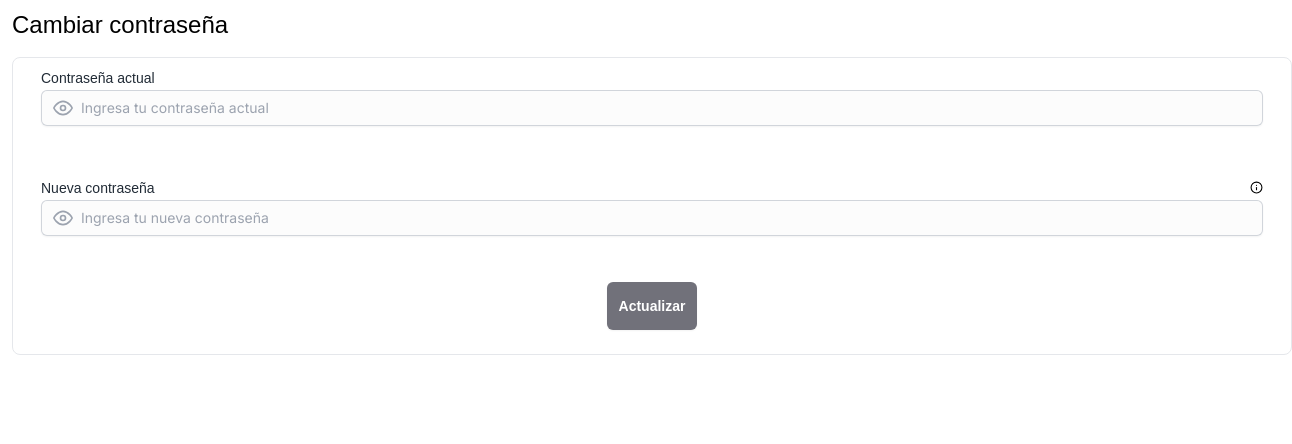
Test case: <ChangePasswordSection /> › throws message error from backend
The image size is (1292, 444).
Fill out the form
Type "oldPassword" into the password field labelled "Contraseña actual" at (652, 108), box [41, 90, 1263, 126]
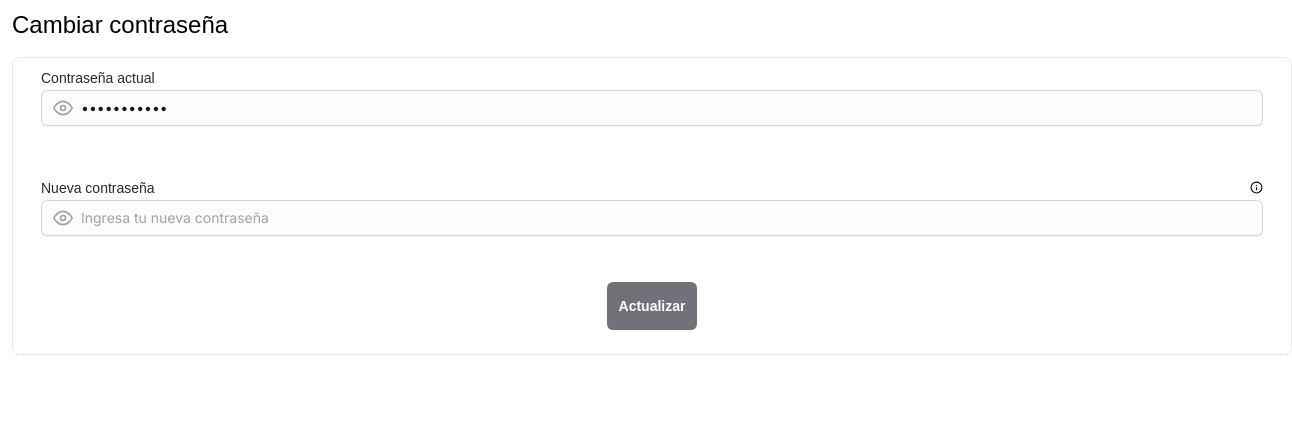
Type "NewPassword123!" into the password field labelled "Nueva contraseña" at (652, 218), box [41, 200, 1263, 236]
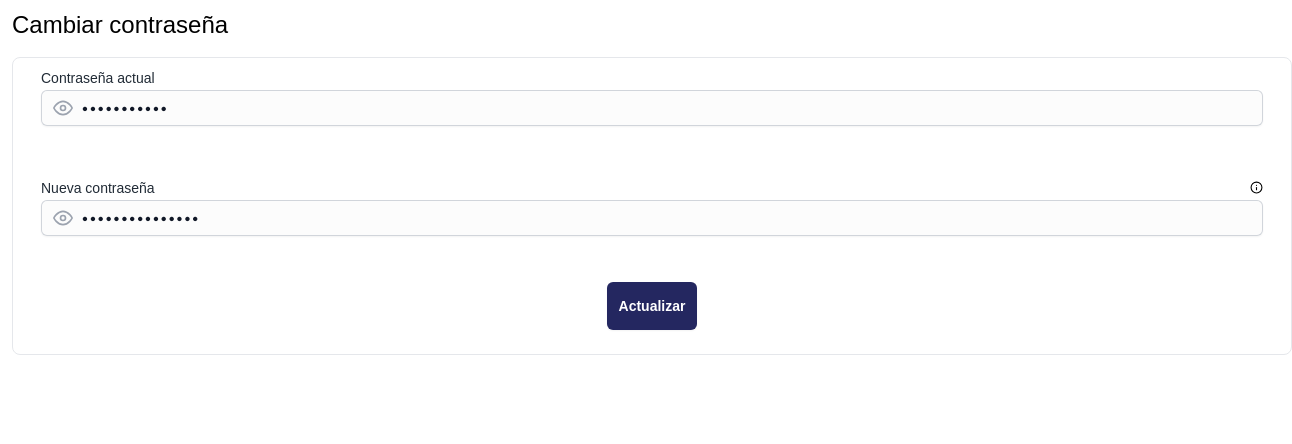
Click the button "Actualizar" at (652, 306), box [606, 282, 697, 330]
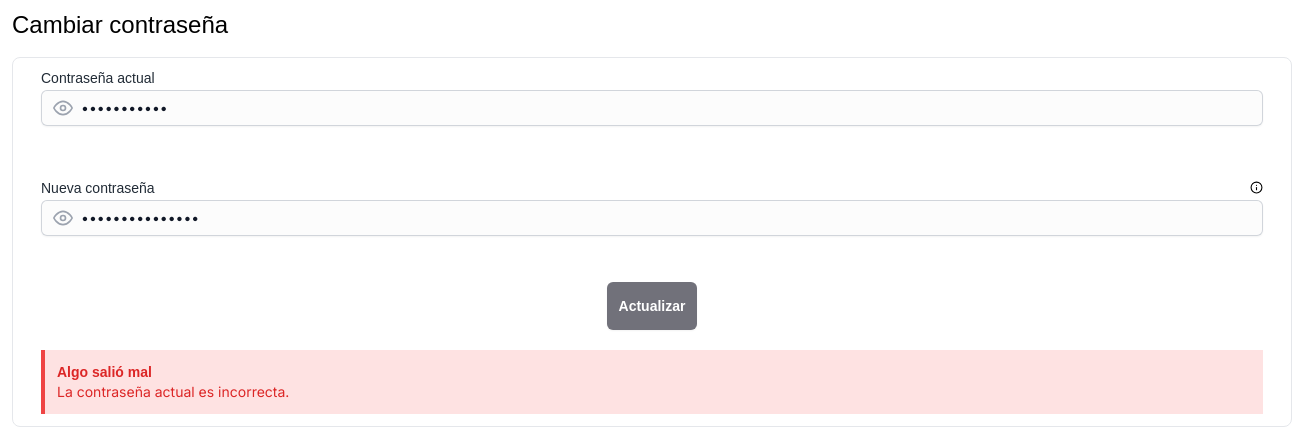
Check: the message shows "La contraseña actual es incorrecta.", box [57, 383, 289, 400]
